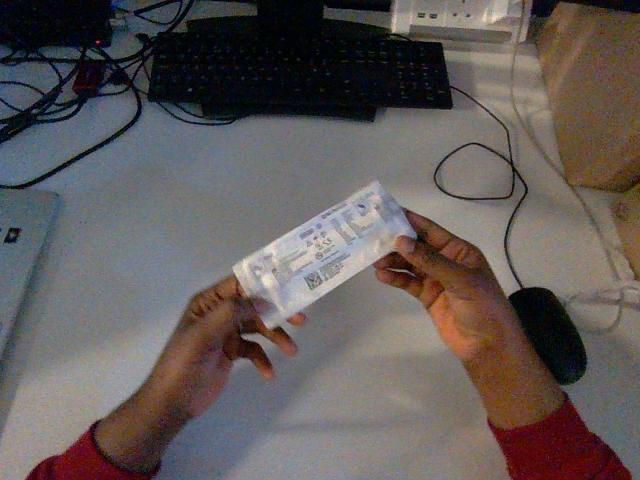syringe: (233, 181, 415, 327)
